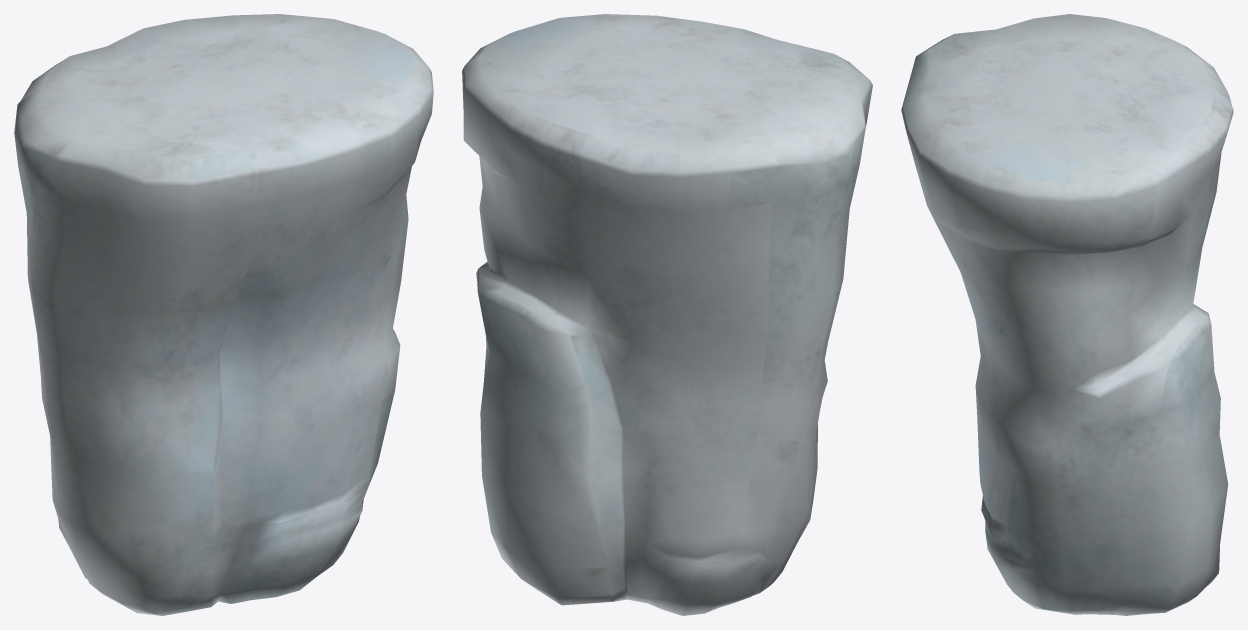
Rendered from P_RockDesert_CliffC03.obj.
The picture shows the model from 3 angles, left to right: view 1: azimuth 30°, elevation 25°; view 2: azimuth 150°, elevation 25°; view 3: azimuth 270°, elevation 25°; orthographic projection. The views are drawn at different scales.
Bounding box in the file's own units: 39.98 × 50.63 × 31.18.
